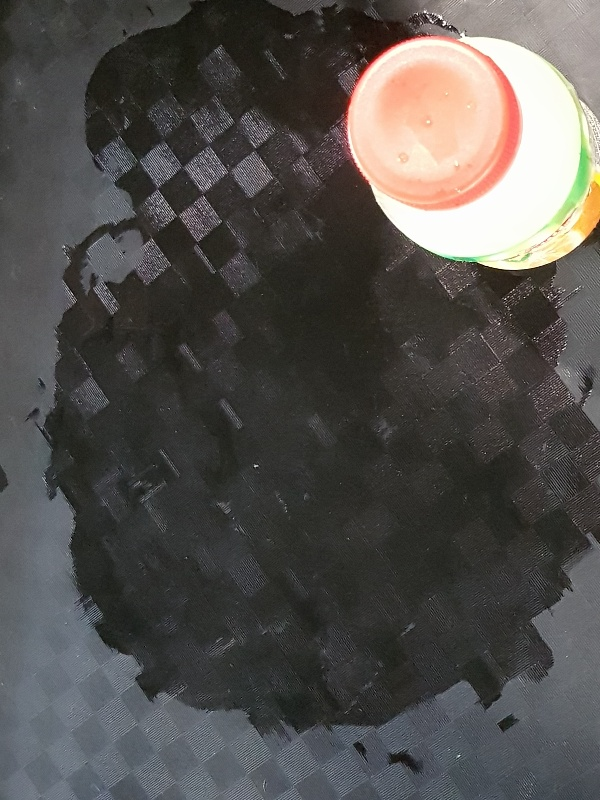Fruit Tree Yuzu Mixed Juice Drink: (345, 34, 600, 272)
